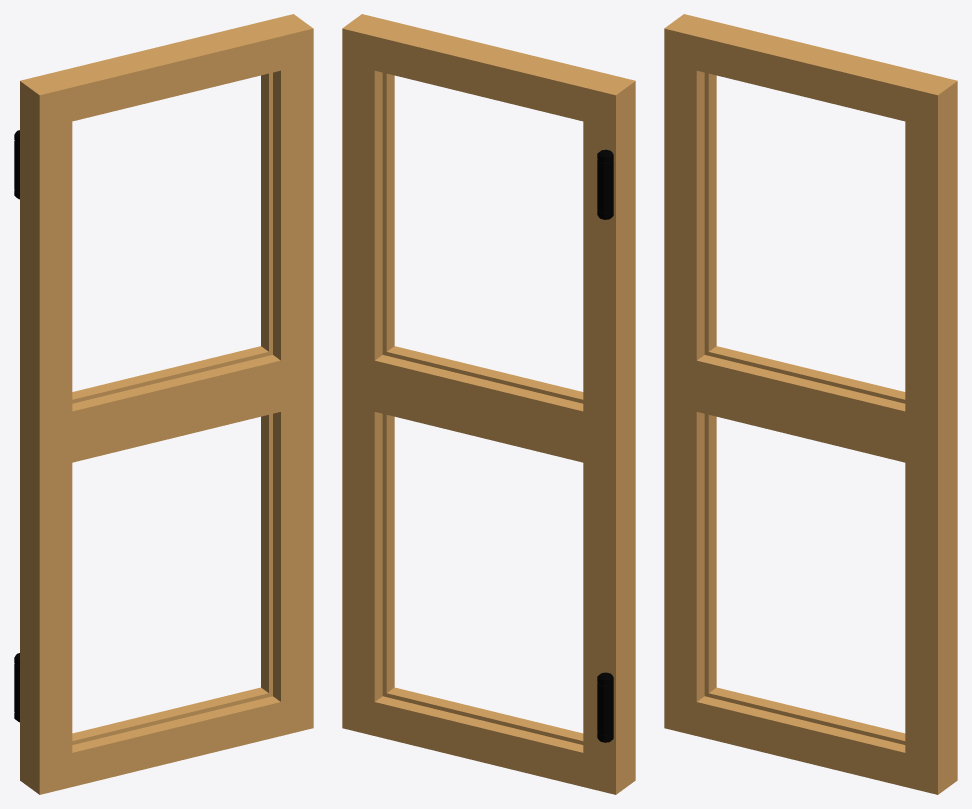
The model's file is Bedroom_Window_02.fbx.
3 renders of one model, left to right at view 1: azimuth 30°, elevation 25°; view 2: azimuth 150°, elevation 25°; view 3: azimuth 330°, elevation 25°, orthographic.
Visible parts, largest first — view 1: Bedroom_Window_02; view 2: Bedroom_Window_02; view 3: Bedroom_Window_02.
Part boxes in pixels (bbox=[...]): Bedroom_Window_02: bbox=[14, 14, 313, 794]; Bedroom_Window_02: bbox=[342, 14, 635, 794]; Bedroom_Window_02: bbox=[664, 14, 957, 794].
Size of the model in its own units: 61.6 by 150 by 10.7.
